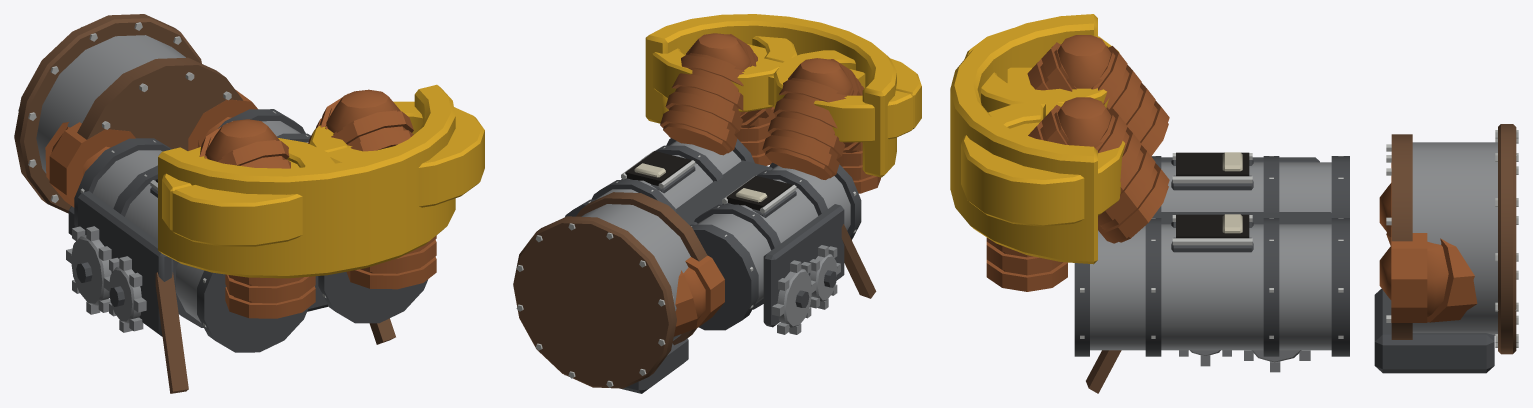
The model's file is offshore-pump-south.glb.
3 views of the same model, side by side, from view 1: azimuth 30°, elevation 25°; view 2: azimuth 150°, elevation 25°; view 3: azimuth 270°, elevation 25° (orthographic). The views are drawn at different scales.
Visible parts, largest first — view 1: body; view 2: body; view 3: body.
Boxes of the visible parts, x1,y1,x2,y2 form: body: (14, 14, 484, 393); body: (513, 14, 921, 393); body: (950, 14, 1518, 393).
Bounding box in the file's own units: 1.4 × 1.15 × 2.14.
